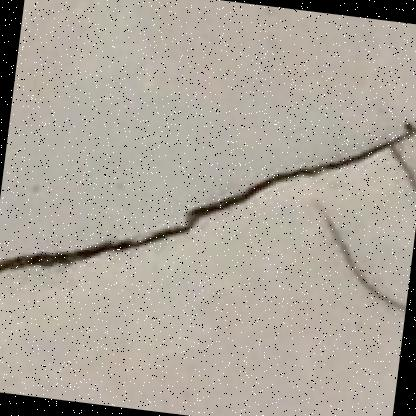Crack: (0, 8, 415, 376)
